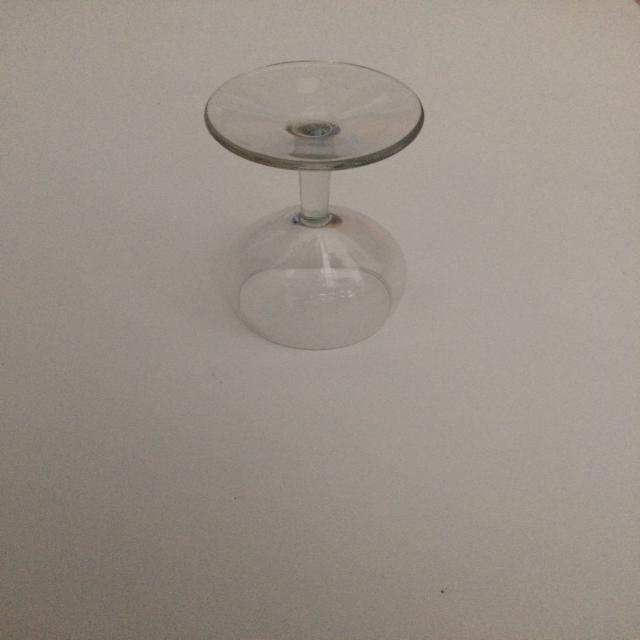glass: (203, 59, 427, 359)
